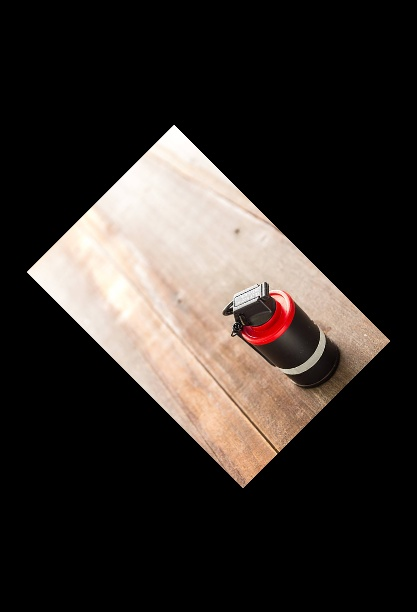e1: (222, 279, 344, 390)
